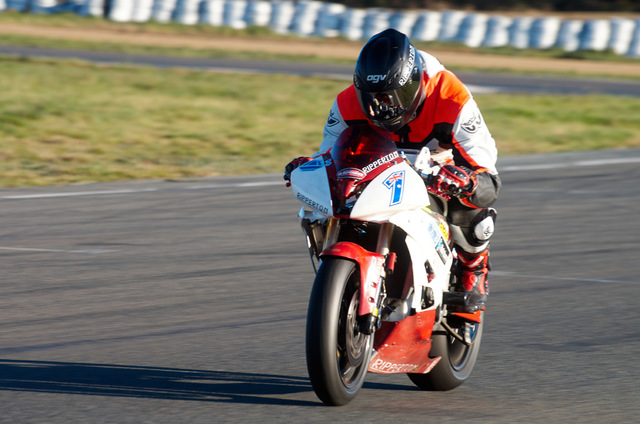helmet: (345, 34, 435, 120)
